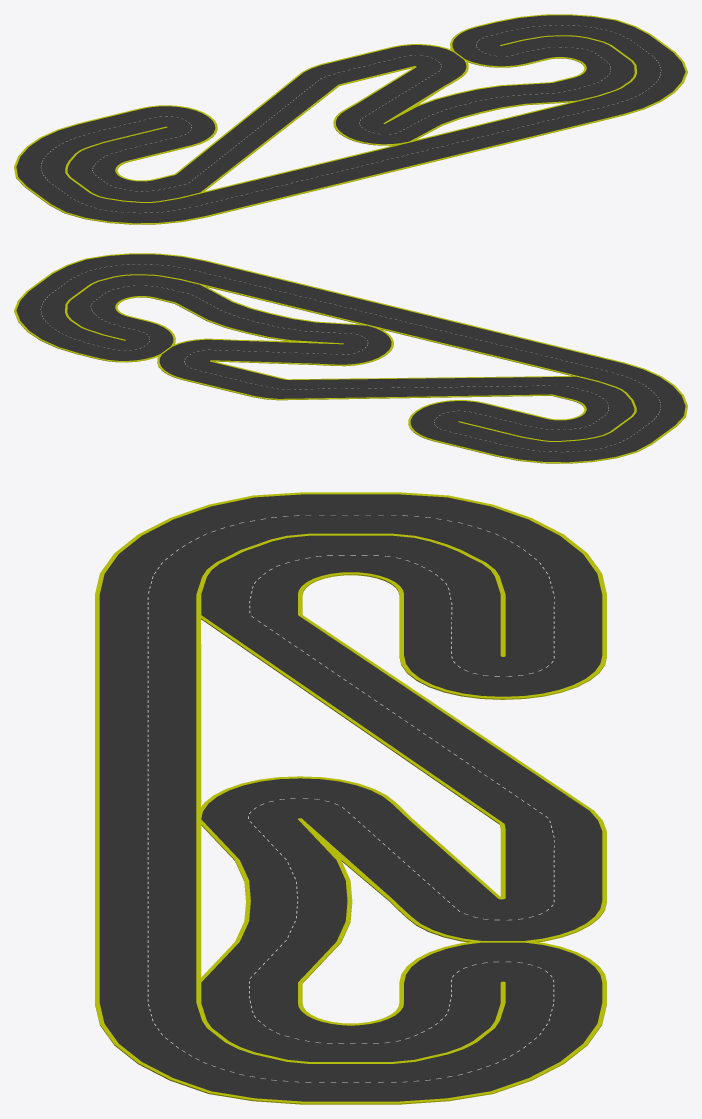
The model's file is robocar.dae.
The picture shows the model from 3 angles, top to bottom: view 1: azimuth 30°, elevation 25°; view 2: azimuth 150°, elevation 25°; view 3: azimuth 270°, elevation 25°; orthographic projection. The views are drawn at different scales.
Parts seen in each view (by area): view 1: Plane_002; view 2: Plane_002; view 3: Plane_002.
Boxes of the visible parts, x1,y1,x2,y2 form: Plane_002: [14, 14, 687, 224]; Plane_002: [14, 253, 687, 463]; Plane_002: [95, 492, 606, 1104].
Size of the model in its own units: 74.81 by 26.5 by 0.0691.
